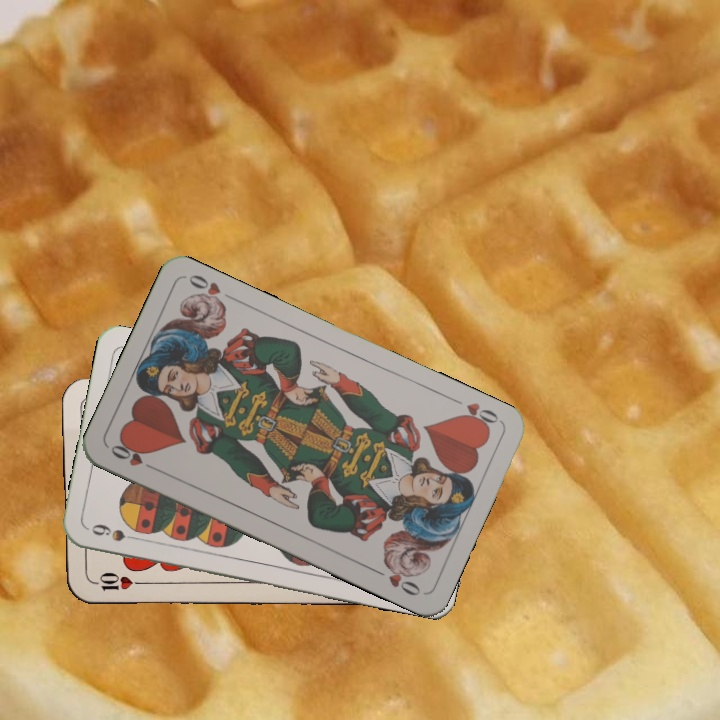H10: (88, 571, 147, 594)
HO: (447, 393, 502, 433), (106, 438, 161, 474)
S9: (87, 520, 145, 544)
